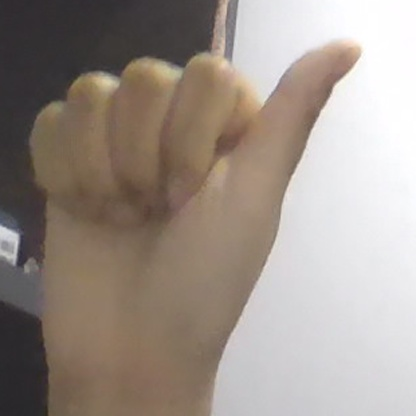A: (30, 41, 361, 380)
